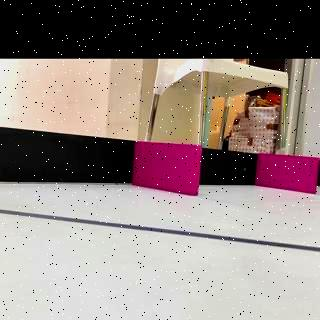xparking: (139, 146, 199, 192), (262, 156, 314, 190)
